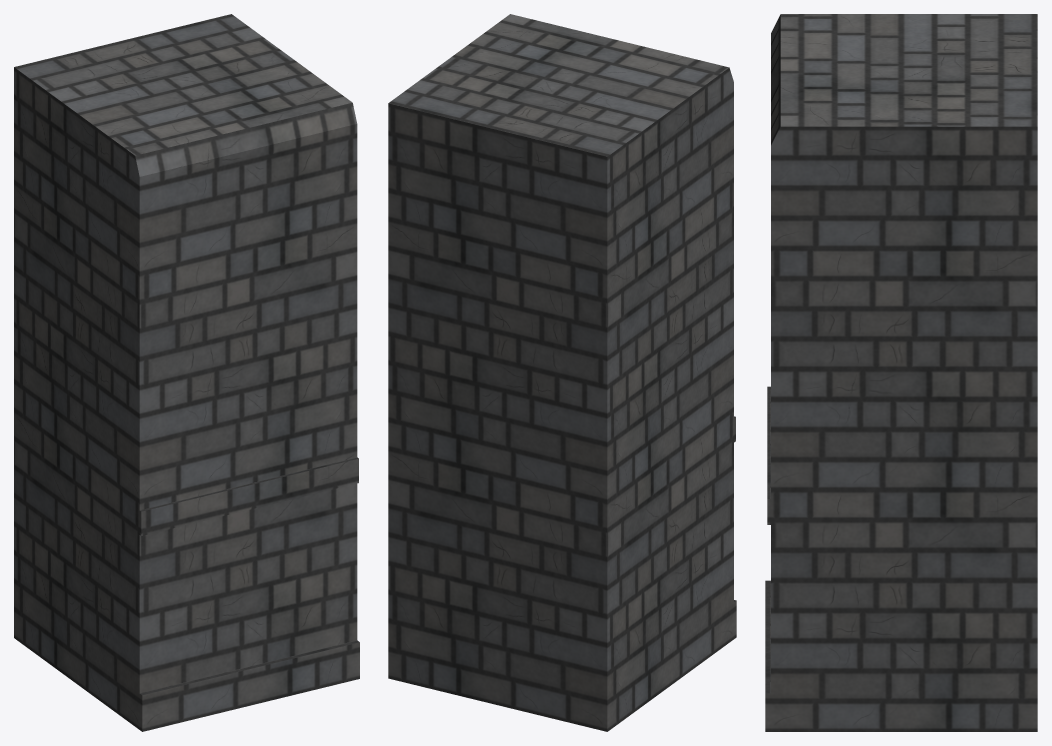
The model's file is kit_wall_face.glb.
The picture shows the model from 3 angles, left to right: view 1: azimuth 30°, elevation 25°; view 2: azimuth 150°, elevation 25°; view 3: azimuth 270°, elevation 25°; orthographic projection. The views are drawn at different scales.
Parts seen in each view (by area): view 1: kit_wall_face; view 2: kit_wall_face; view 3: kit_wall_face.
Boxes of the visible parts, x1=… form: kit_wall_face: x1=14, y1=14, x2=359, y2=731; kit_wall_face: x1=388, y1=14, x2=736, y2=731; kit_wall_face: x1=765, y1=14, x2=1037, y2=731.
Size of the model in its own units: 2.8 by 7.02 by 2.86.
Materials: 1 (1 with a texture image).
